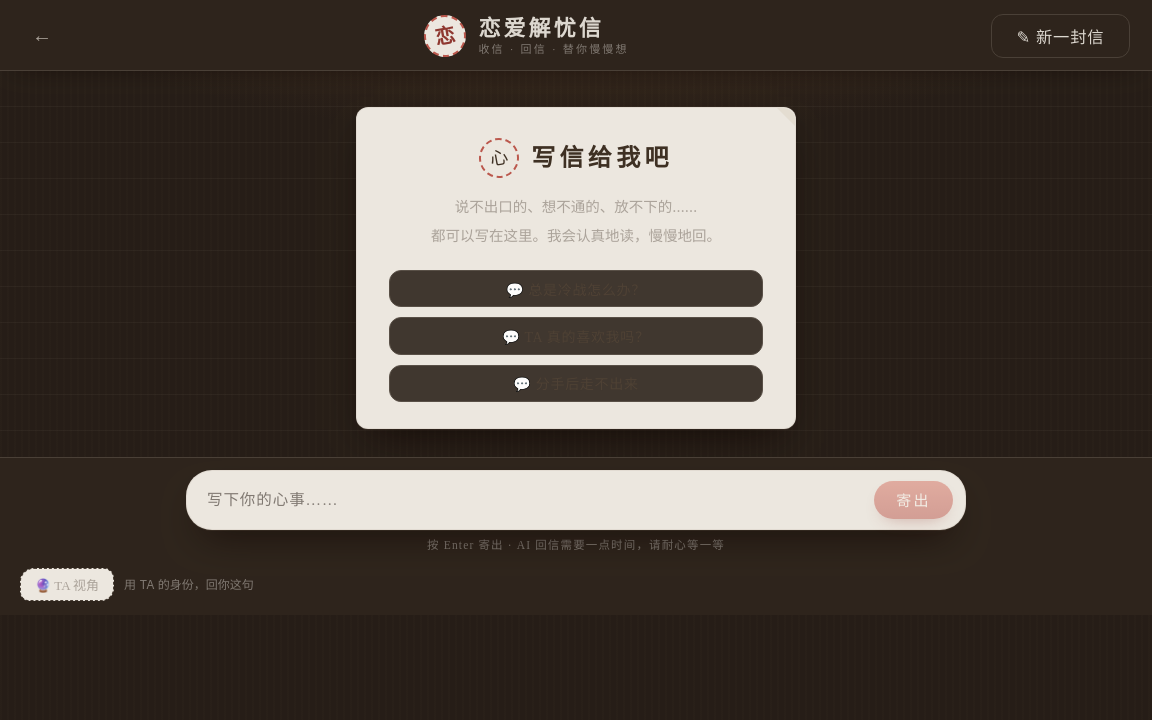
Scenario: LoveChat：发送与占位（phase17 契约） › ⛔ 占位载荷绝不进正文（否则用户看到一坨 JSON）
Type "在吗" into the field with class "chat-input" at {"x": 536, "y": 500}, box [207,491,866,509]
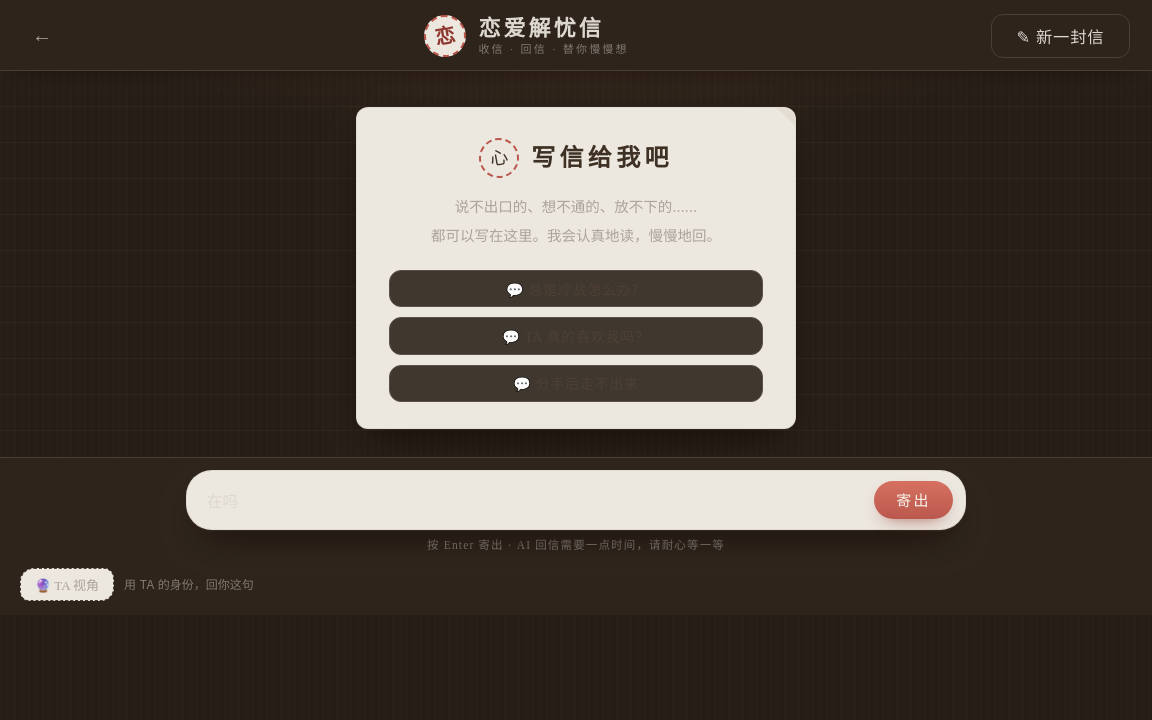
Click the button with class "send-btn" at {"x": 913, "y": 500}, box [874,481,953,519]
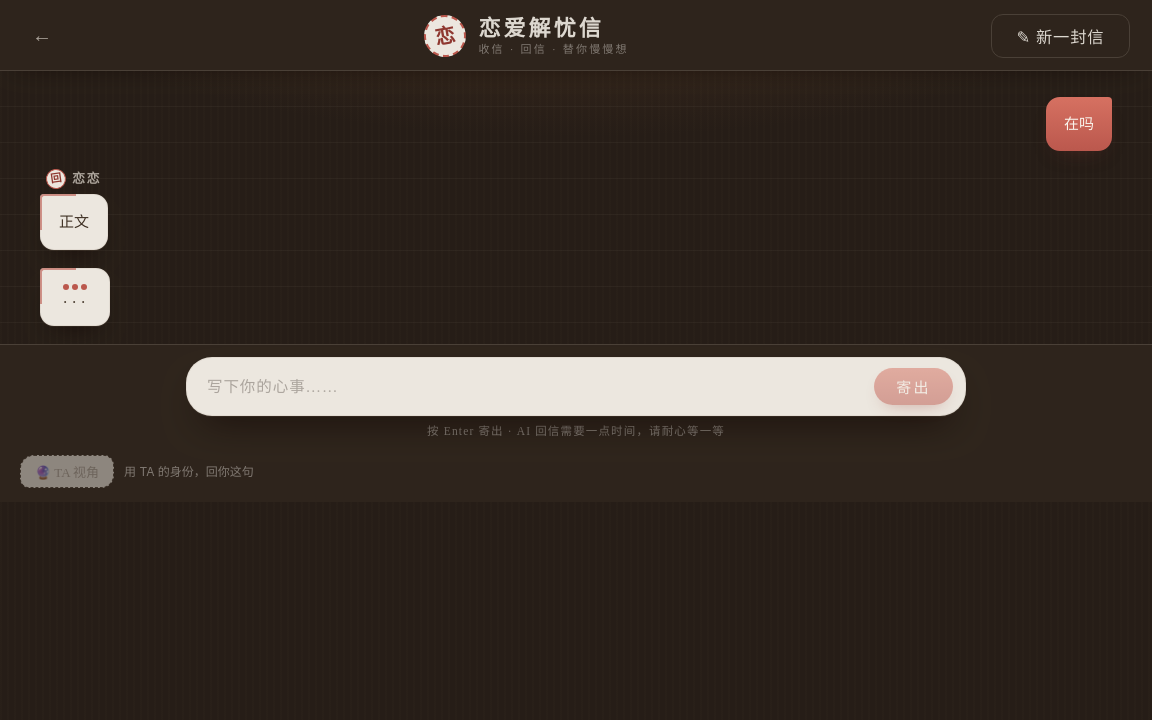
Result: the text with class "message-content" reads "正文" at [59,212,89,232]
